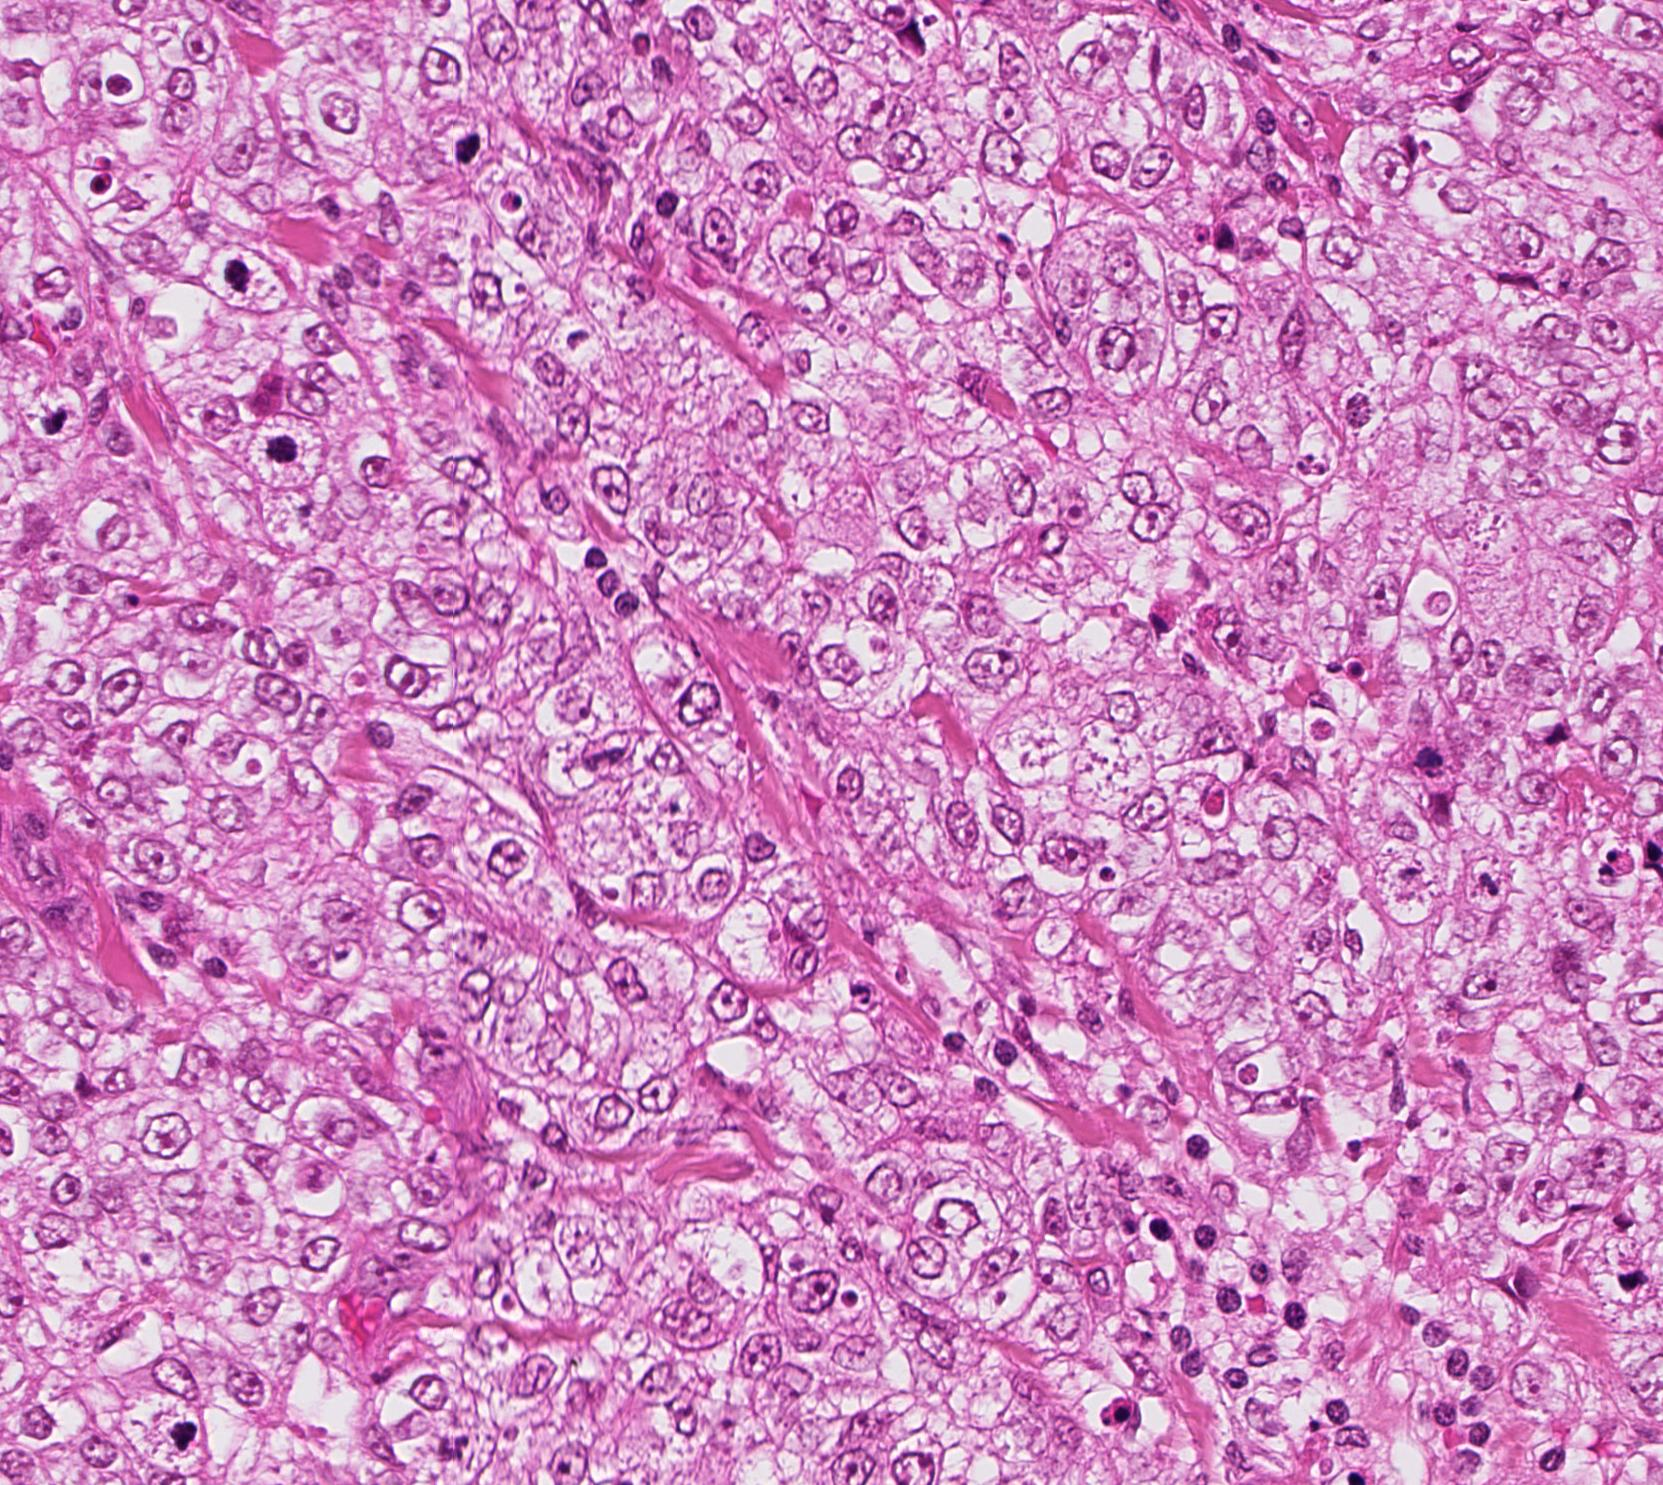mitosis: (434, 116, 495, 176), (152, 1403, 212, 1463), (205, 237, 265, 297), (257, 416, 317, 476)
